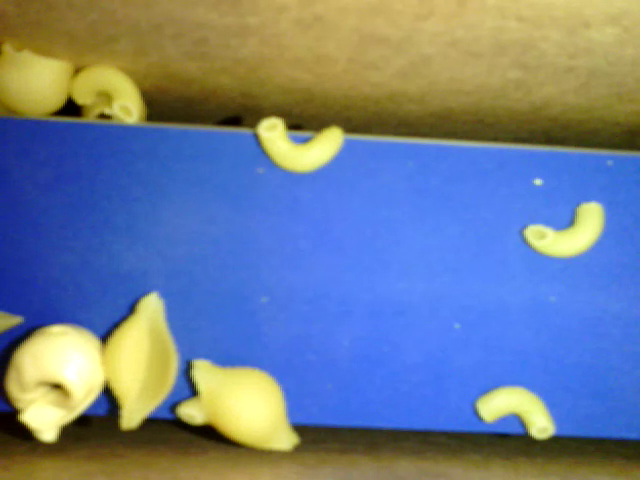elbow: (256, 117, 344, 171), (522, 201, 603, 256), (474, 385, 555, 440), (72, 63, 142, 121), (176, 396, 214, 423)
shell: (101, 291, 180, 428), (190, 358, 299, 450), (1, 43, 75, 117), (82, 92, 146, 124)
tortellini: (5, 323, 106, 443)
